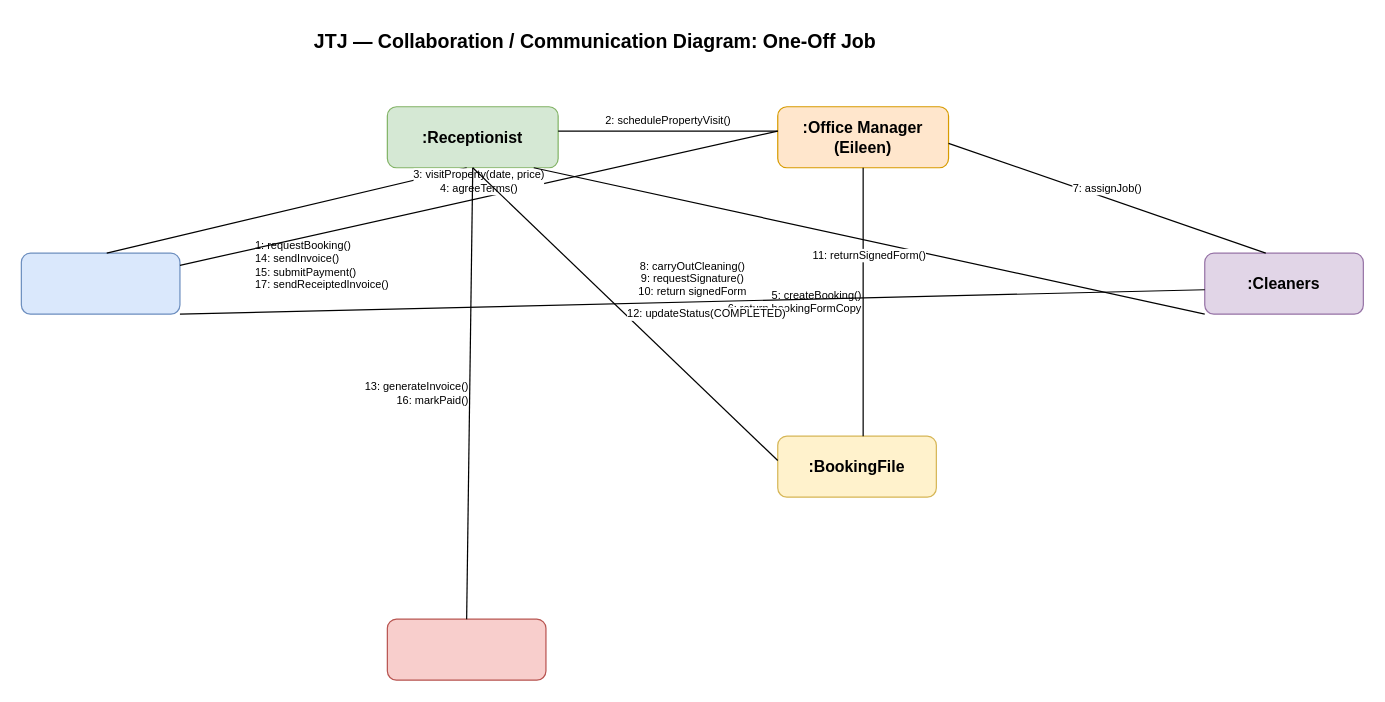
The diagram is 1385 pixels wide and 702 high, and some of its shapes have lost their labels. The shapes that lost their labels are listed below. From the top down, each one's centre as x and y in pixels, then its label:
At point (100, 283): ":Customer".
At point (466, 649): ":InvoiceFile".
